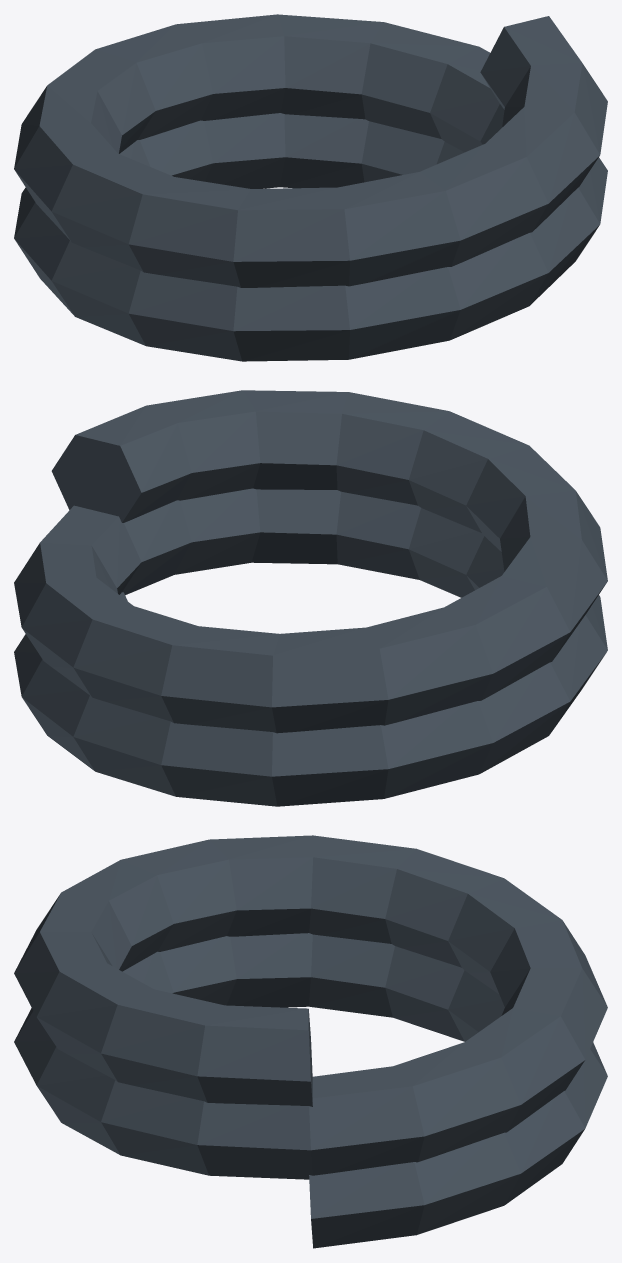
File: Spring_Coil.gltf
The picture shows the model from 3 angles, top to bottom: view 1: azimuth 30°, elevation 25°; view 2: azimuth 150°, elevation 25°; view 3: azimuth 270°, elevation 25°; orthographic projection.
Visible parts, largest first — view 1: Spring_Coil_baked; view 2: Spring_Coil_baked; view 3: Spring_Coil_baked.
Boxes of the visible parts, <box> form: Spring_Coil_baked: <box>14,14,607,361</box>; Spring_Coil_baked: <box>14,390,607,806</box>; Spring_Coil_baked: <box>14,835,607,1248</box>.
Bounding box in the file's own units: 0.484 × 0.1962 × 0.484.
